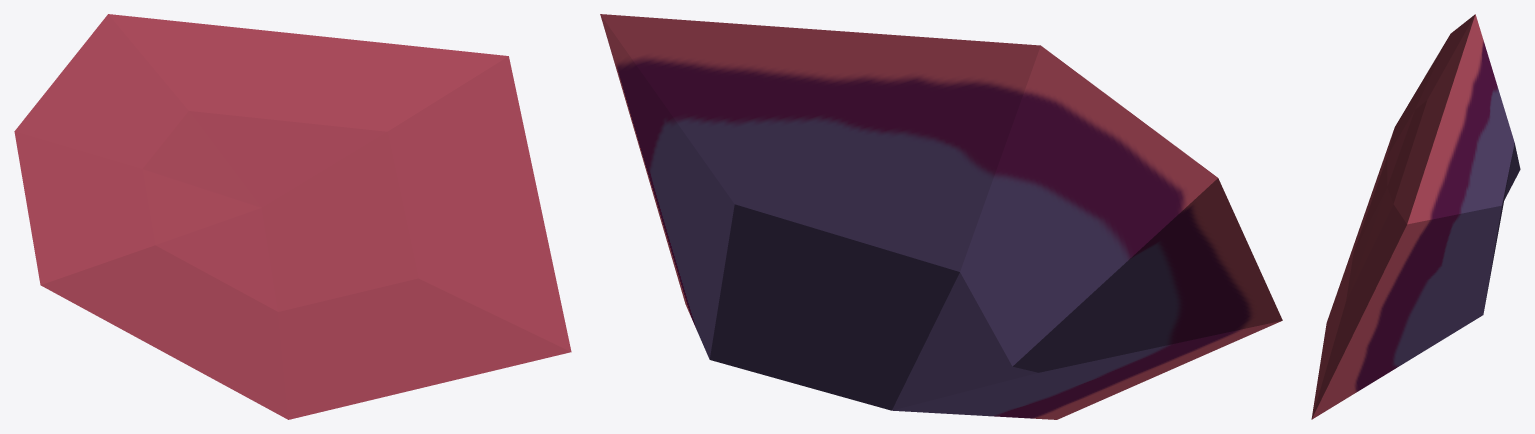
File: Isla pequeña 2.fbx
3 views of the same model, side by side, from view 1: azimuth 30°, elevation 25°; view 2: azimuth 150°, elevation 25°; view 3: azimuth 270°, elevation 25° (orthographic). The views are drawn at different scales.
Visible parts, largest first — view 1: Isla pequeña 2; view 2: Isla pequeña 2; view 3: Isla pequeña 2.
Part boxes in pixels (left/top/right/bottom): Isla pequeña 2: left=14, top=14, right=571, bottom=419; Isla pequeña 2: left=600, top=14, right=1282, bottom=419; Isla pequeña 2: left=1311, top=14, right=1520, bottom=419.
Bounding box in the file's own units: 649 × 463 × 317.
